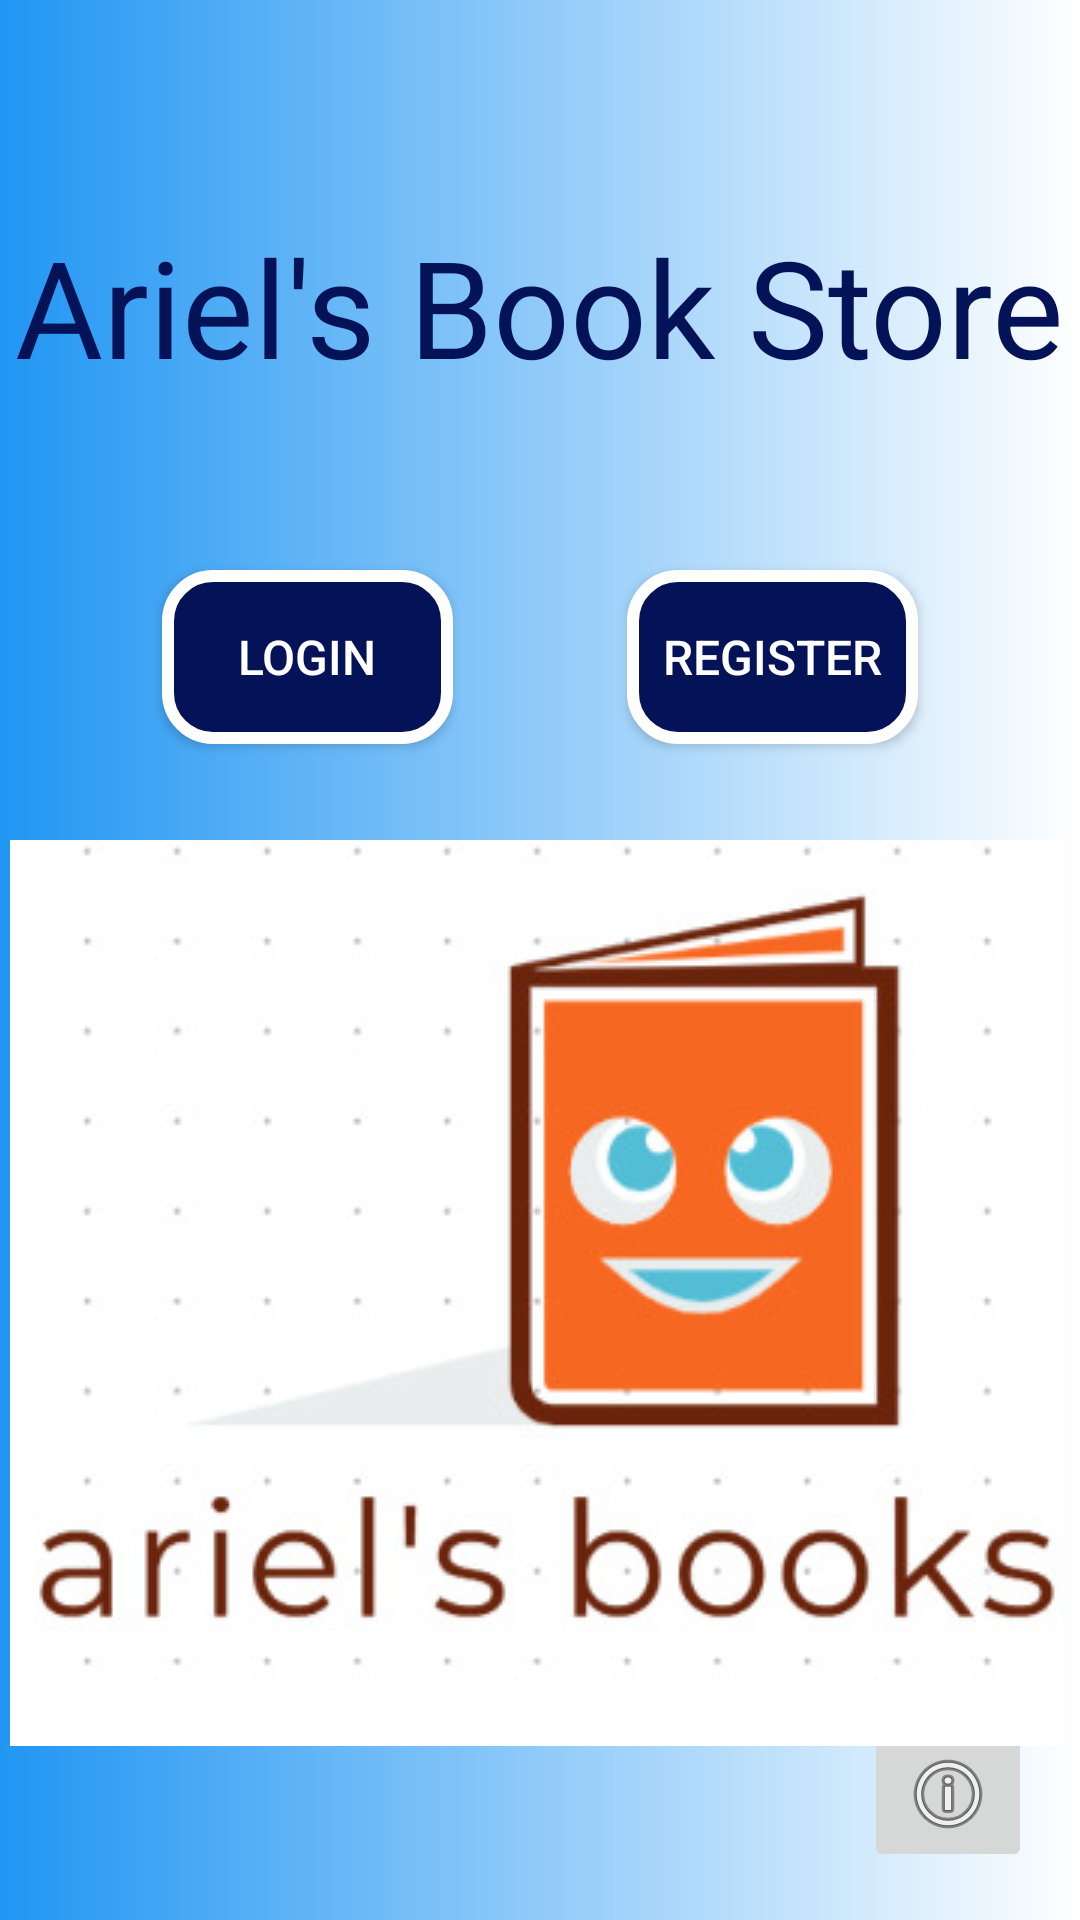

Screen size 1080 × 1920. Icon name, then its box in pixels as (x1, y1, x2, y2):
info details: (864, 1746, 1020, 1872)
